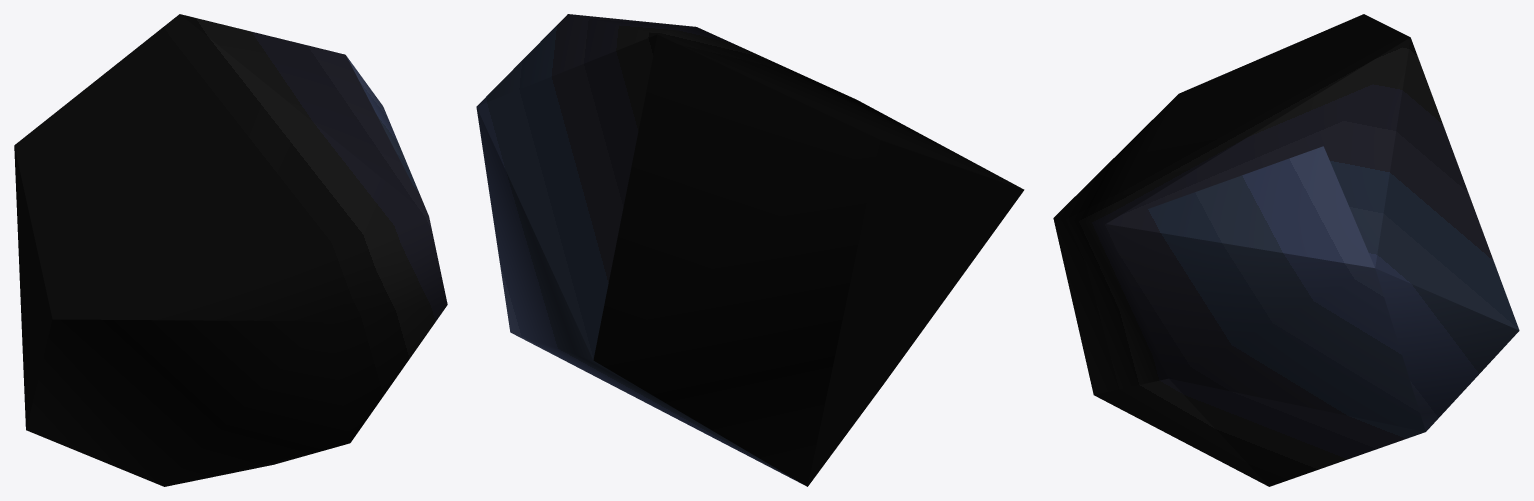
The model's file is 0026_HT_ChongWuBuZhuo_XiaoShiTou.glb.
3 views of the same model, side by side, from view 1: azimuth 30°, elevation 25°; view 2: azimuth 150°, elevation 25°; view 3: azimuth 270°, elevation 25° (orthographic). The views are drawn at different scales.
Size of the model in its own units: 2.2 by 2.03 by 1.97.
1 material, 1 textured.
